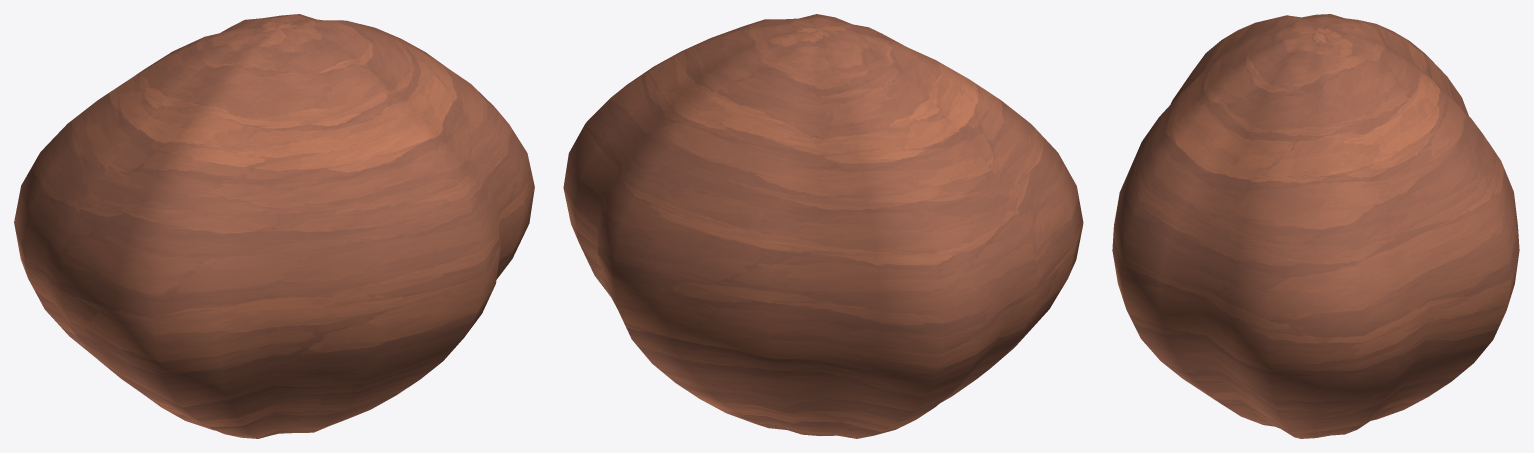
Rendered from rock_2.glb.
3 views of the same model, side by side, from view 1: azimuth 30°, elevation 25°; view 2: azimuth 150°, elevation 25°; view 3: azimuth 270°, elevation 25° (orthographic). The views are drawn at different scales.
Parts seen in each view (by area): view 1: rock_2; view 2: rock_2; view 3: rock_2.
Part boxes in pixels (box(x1,y1,x2,y2)): rock_2: box(14, 14, 534, 438); rock_2: box(563, 14, 1083, 438); rock_2: box(1112, 14, 1519, 438).
Bounding box in the file's own units: 2.4 × 1.98 × 1.89.
Materials: 1 (1 with a texture image).
